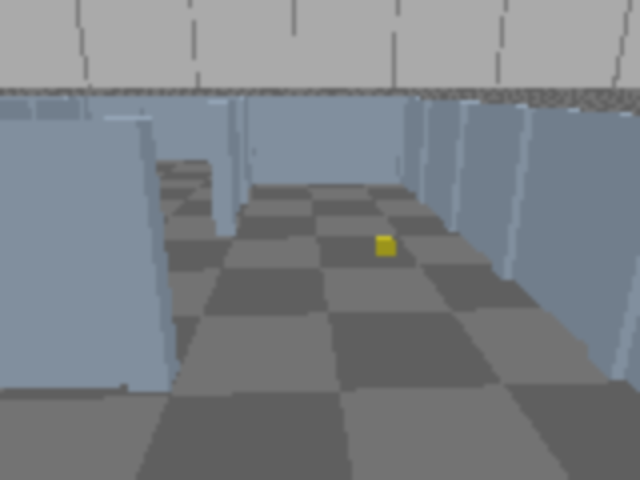puck: (374, 235, 397, 257)
